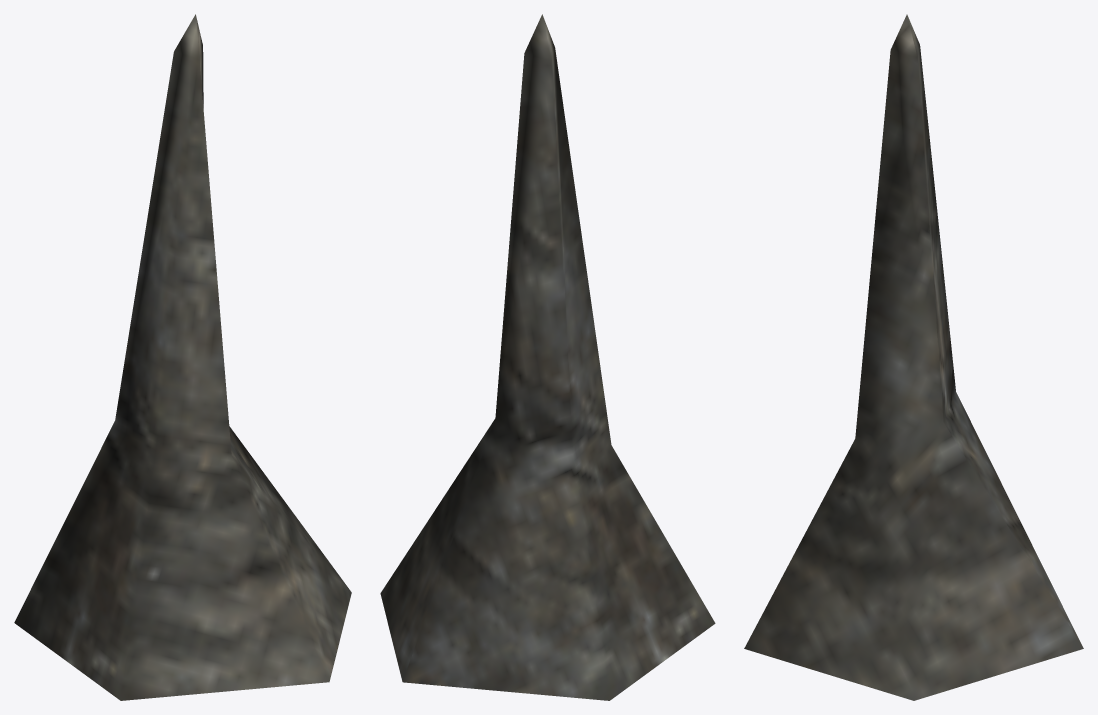
File: Stal4_LOD1.fbx
The picture shows the model from 3 angles, left to right: view 1: azimuth 30°, elevation 25°; view 2: azimuth 150°, elevation 25°; view 3: azimuth 270°, elevation 25°; orthographic projection.
Parts seen in each view (by area): view 1: pCylinder22; view 2: pCylinder22; view 3: pCylinder22.
Part boxes in pixels (<box>): pCylinder22: <box>14,14,351,700</box>; pCylinder22: <box>380,14,715,700</box>; pCylinder22: <box>744,14,1083,700</box>.
Bounding box in the file's own units: 0.8399 × 1.75 × 0.8832.
